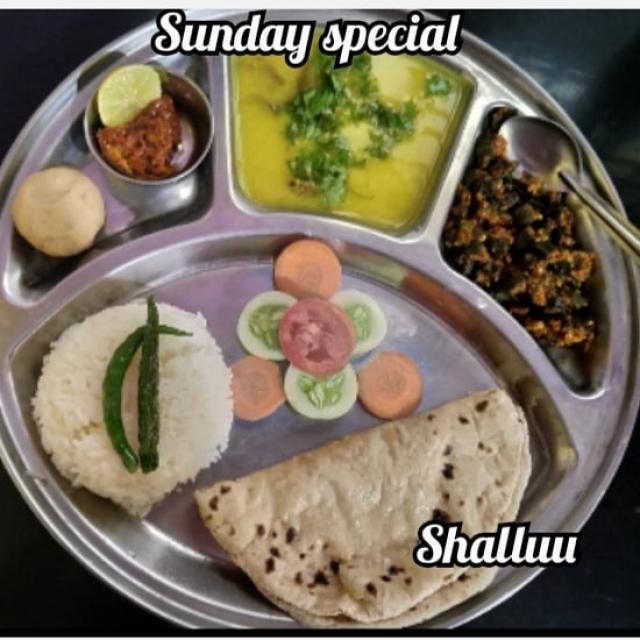Roti: (204, 426, 556, 608)
White Rice: (24, 307, 242, 497)
